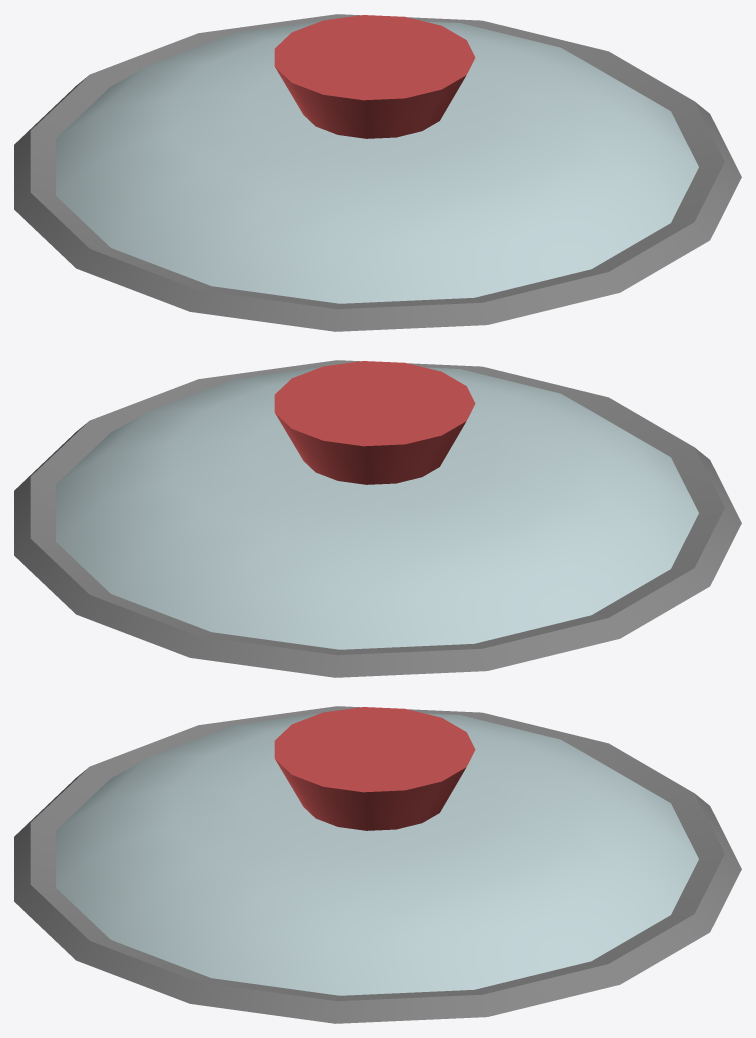
File: Cap.fbx
The picture shows the model from 3 angles, top to bottom: view 1: azimuth 30°, elevation 25°; view 2: azimuth 150°, elevation 25°; view 3: azimuth 270°, elevation 25°; orthographic projection.
Visible parts, largest first — view 1: Cap; view 2: Cap; view 3: Cap.
Part boxes in pixels (x1,y1,x2,y2): Cap: (14, 14, 741, 331); Cap: (14, 360, 741, 677); Cap: (14, 706, 741, 1023).
Bounding box in the file's own units: 68.27 × 12.3 × 67.9.
